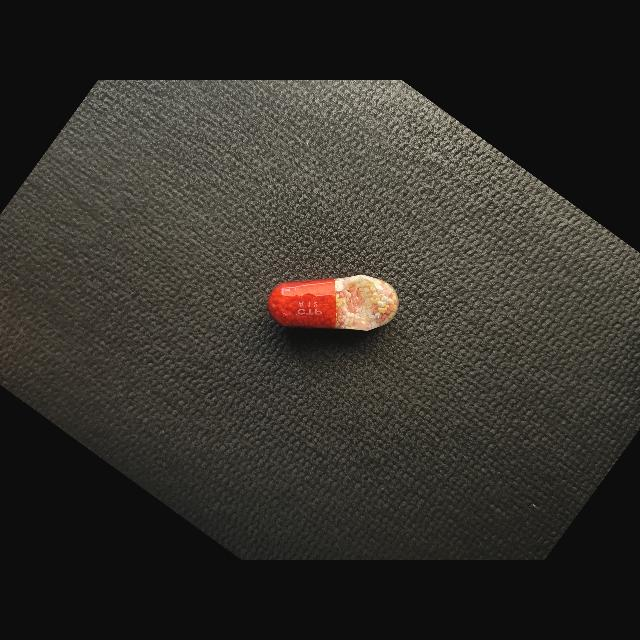Defective Capsule: (268, 275, 399, 331)
